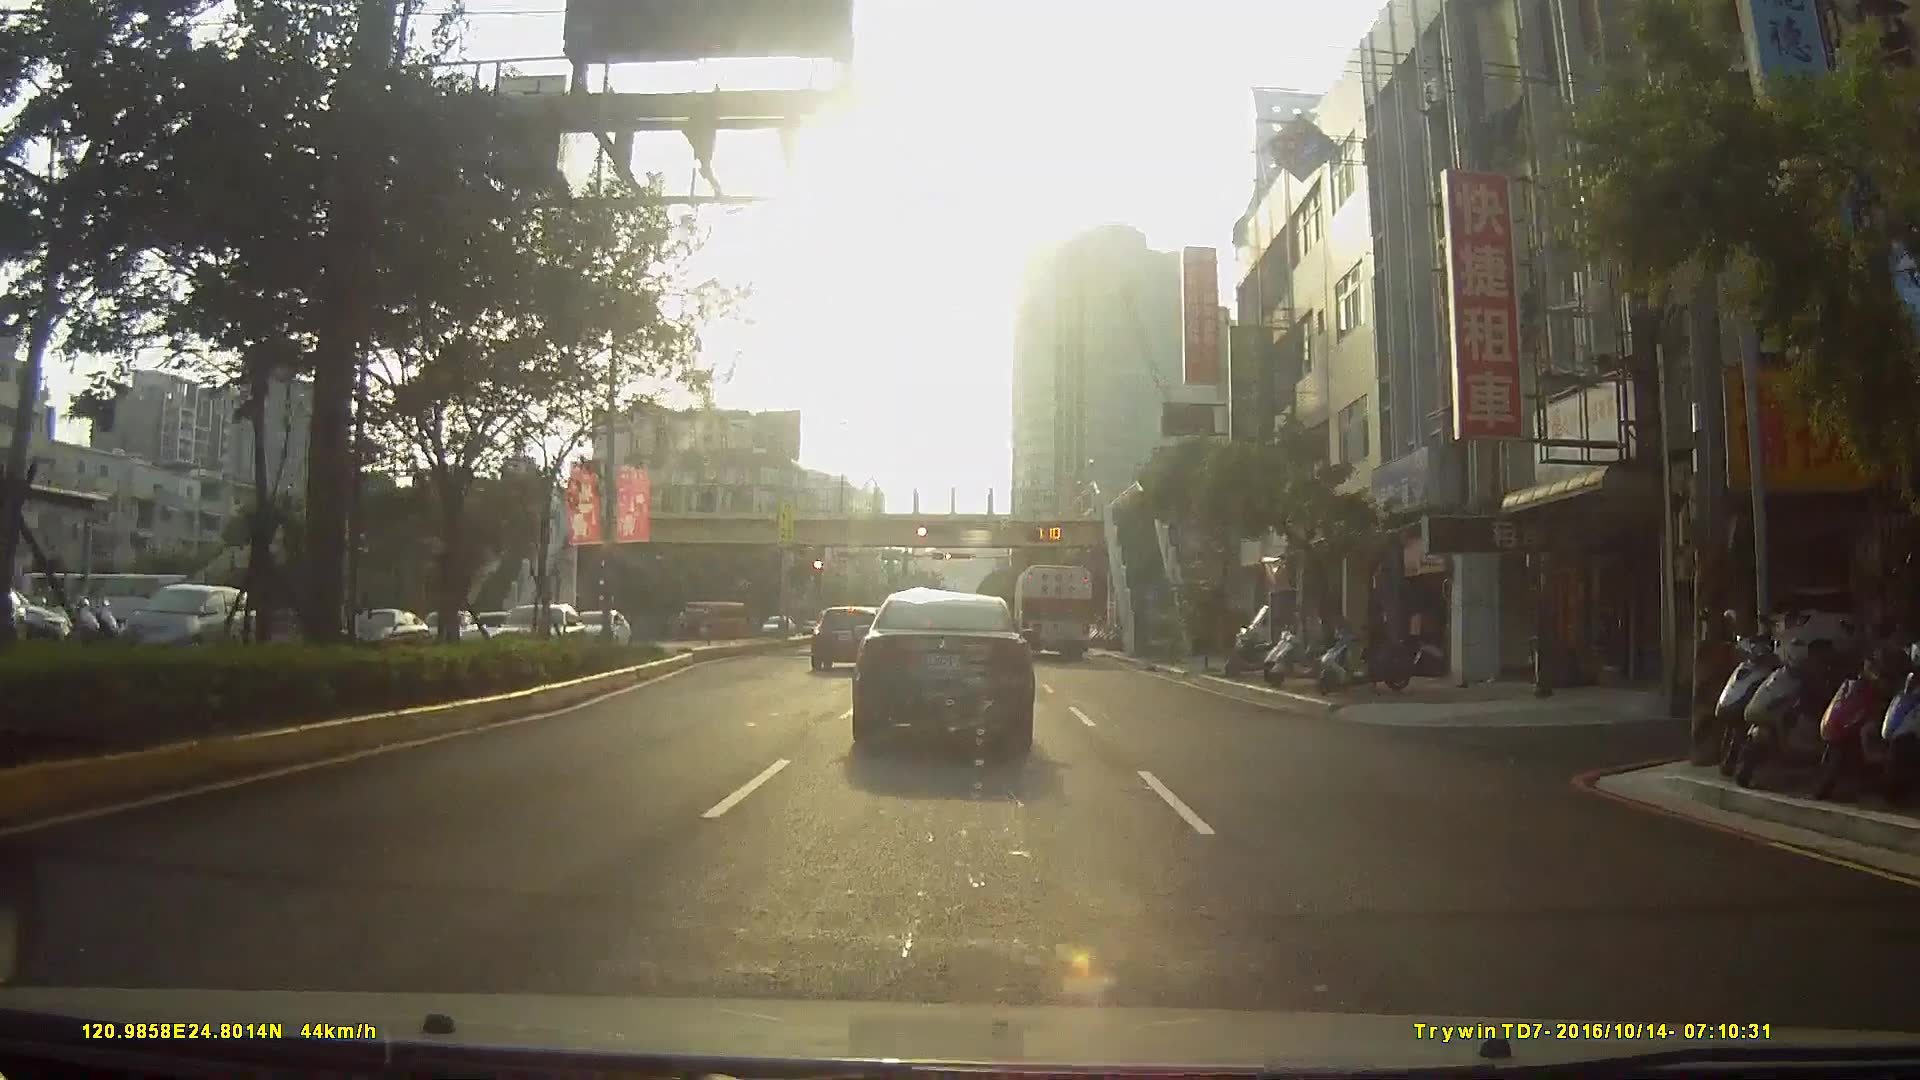vehicle: (851, 584, 1036, 742), (111, 582, 251, 661), (1010, 558, 1095, 657), (807, 604, 880, 674), (756, 611, 795, 637)
